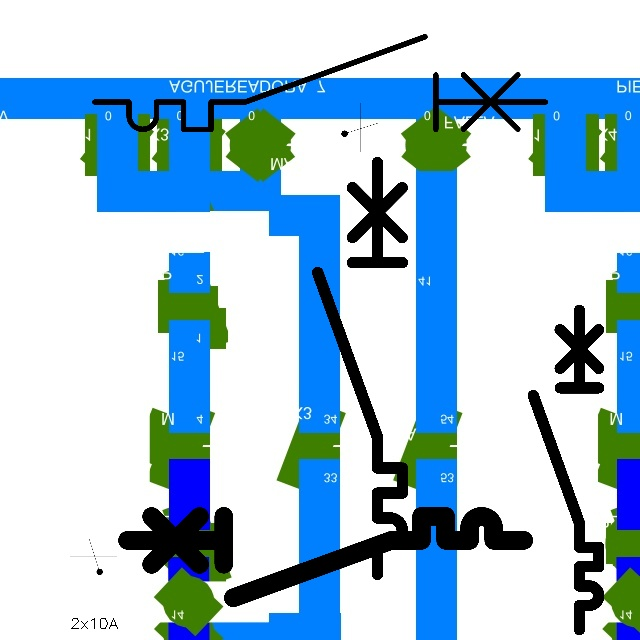interruptor_termomagnetico: (83, 25, 557, 141), (307, 151, 413, 584), (117, 506, 534, 608), (525, 302, 607, 638)
